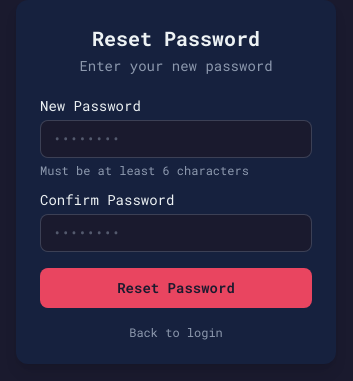
ResetPassword Page › Submit Flow › shows loading state while submitting
The width and height of the screenshot is (353, 381).
In the password field labelled "New Password": (176, 139) top-left (40, 120), bottom-right (312, 158), type "newpassword123"
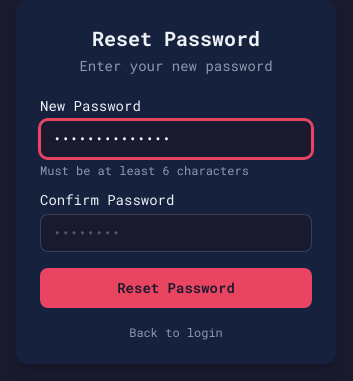
In the password field labelled "Confirm Password": (176, 233) top-left (40, 214), bottom-right (312, 252), type "newpassword123"
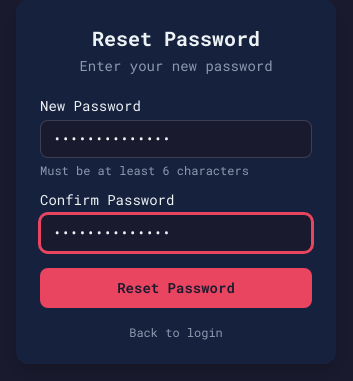
Click the button "Reset Password": (176, 288) top-left (40, 268), bottom-right (312, 308)
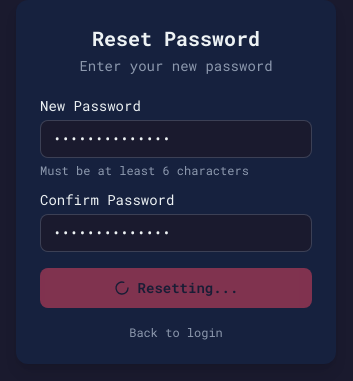
Result: the button "Resetting..." is disabled at top-left (40, 268), bottom-right (312, 308)
